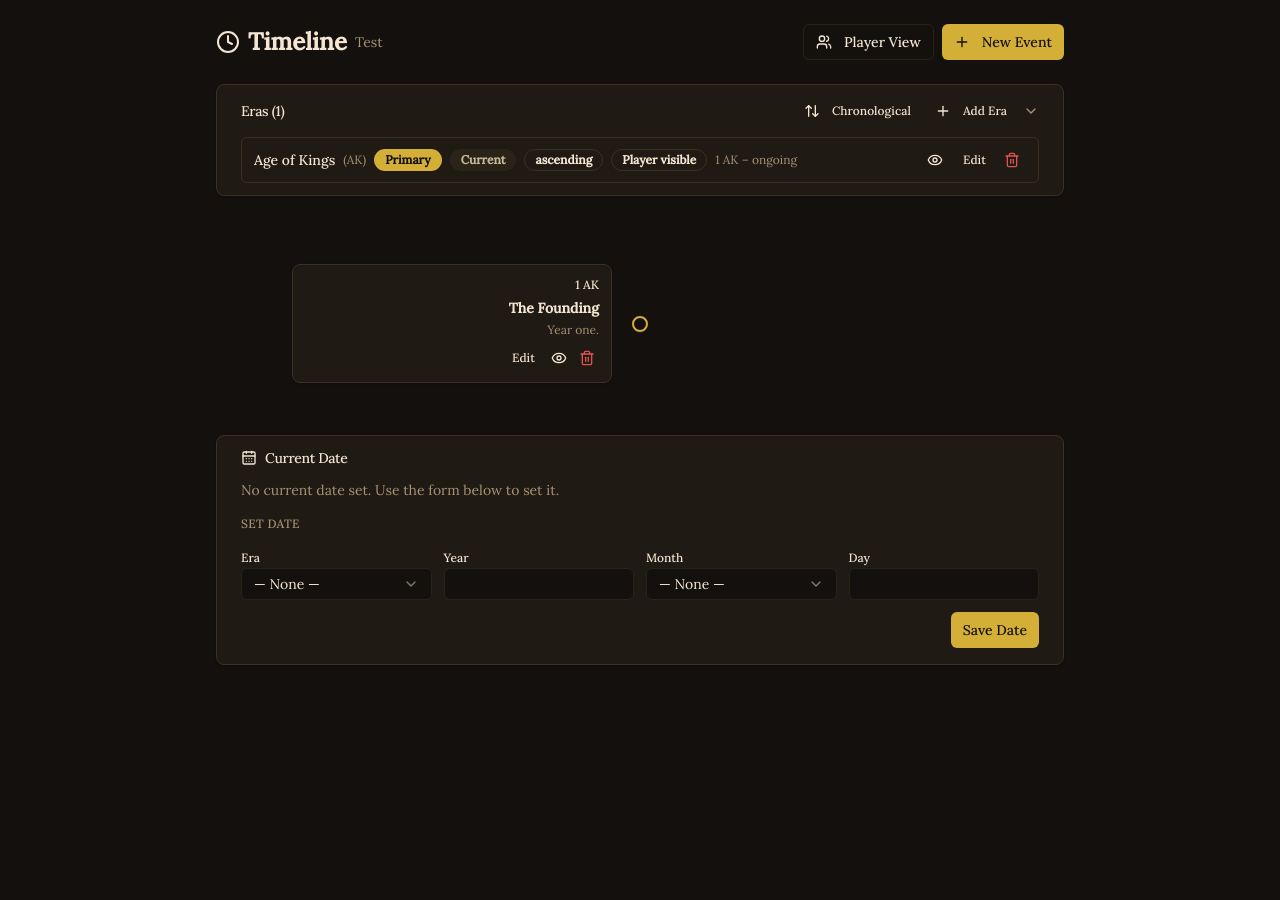
Test: TimelinePage — GM actions › opens edit dialog with existing event data
This screenshot has width=1280, height=900.
Expected: the text "The Founding" is shown, 509,299 -> 599,317
Click the button "Edit" below "Year one.".
click(524, 358)  # box 504,346 -> 543,370
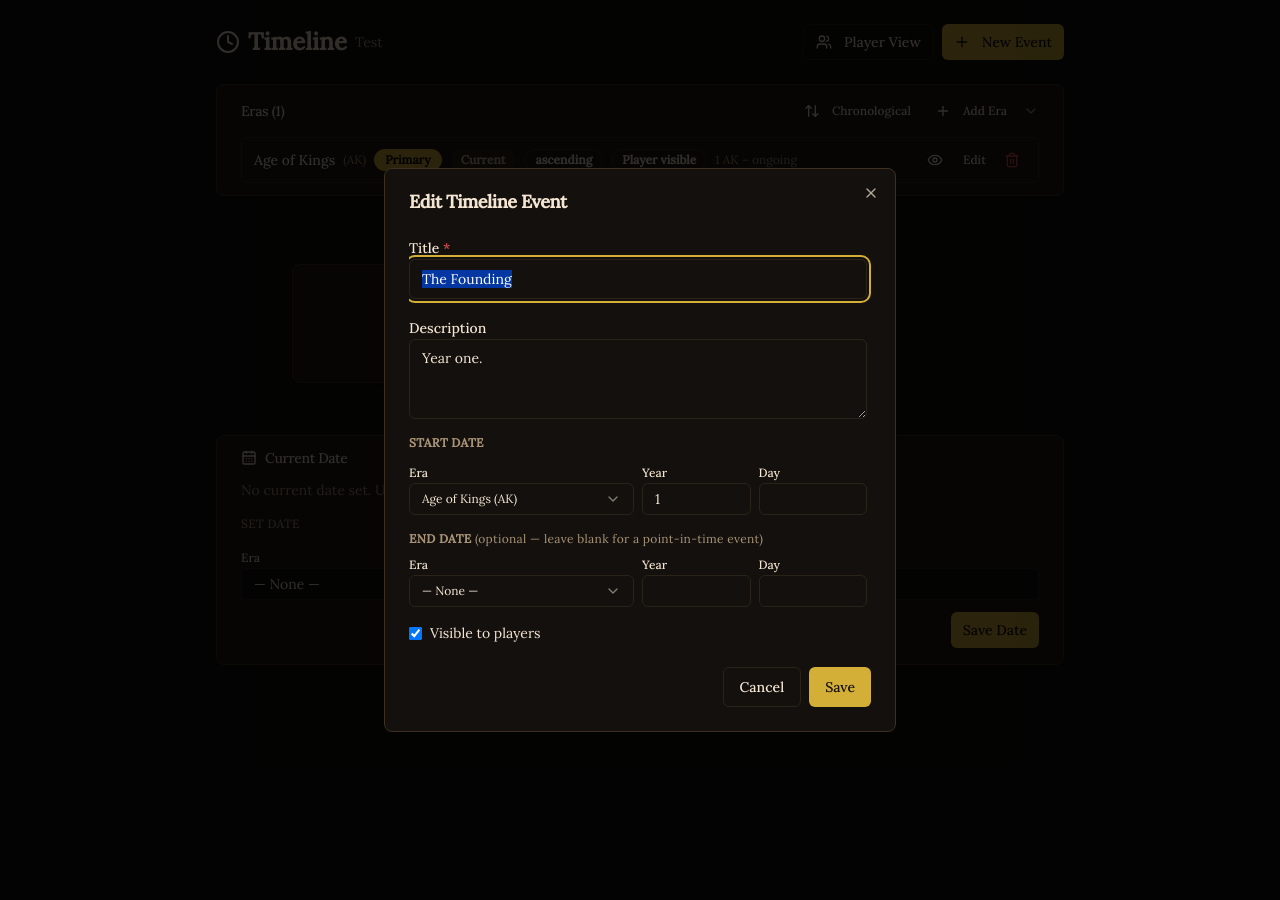
Now the heading "Edit Timeline Event" is shown, box 409,190 -> 567,213
